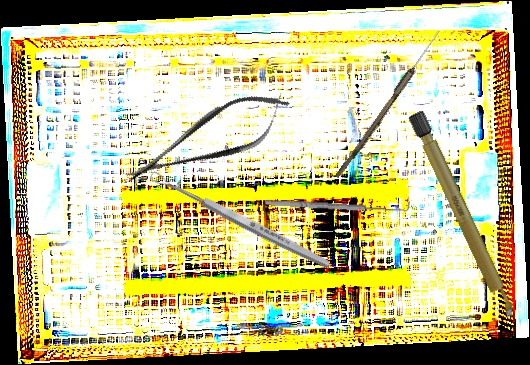Hook Surgical: (264, 193, 411, 215)
Micro Scissor: (114, 77, 301, 201)
Scalpel Handle: (406, 108, 520, 326)
Surgical Spoon: (148, 168, 333, 272), (334, 27, 443, 182)
